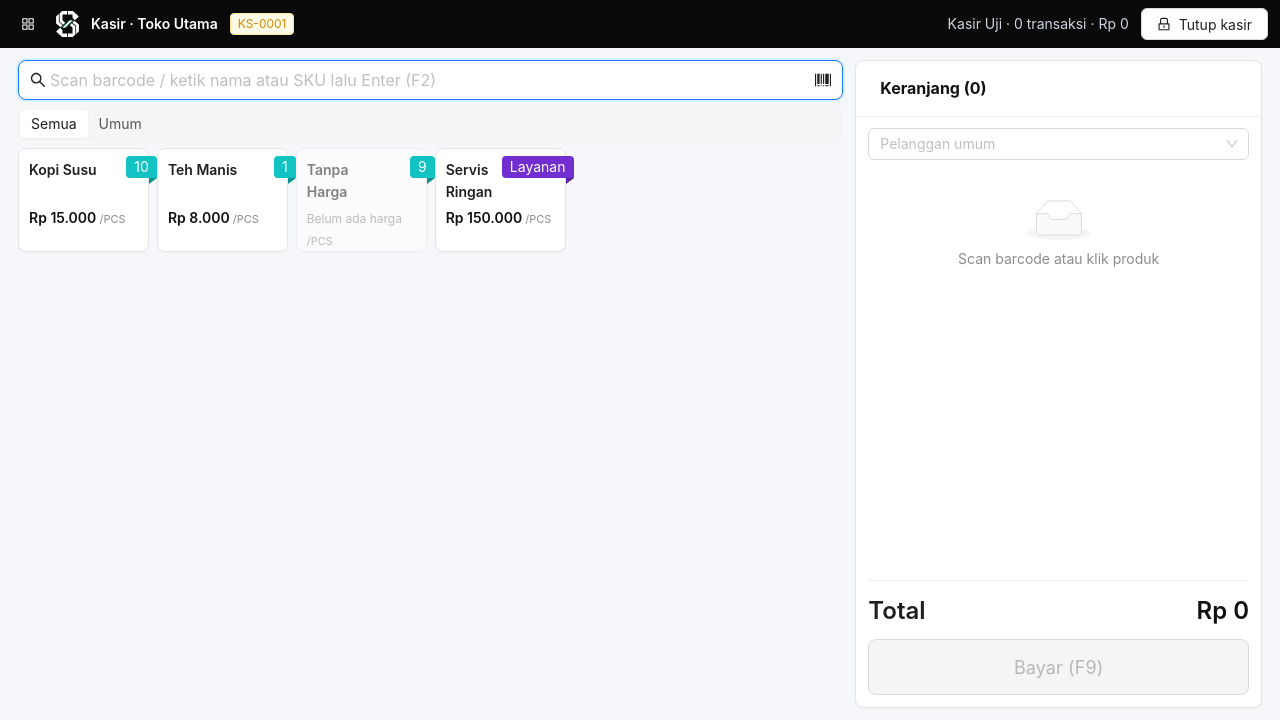
Test case: Kasir (Register) › barang tanpa harga jual tidak masuk keranjang
Click the text "Tanpa Harga".
click(328, 170)  # box [307,161,348,200]
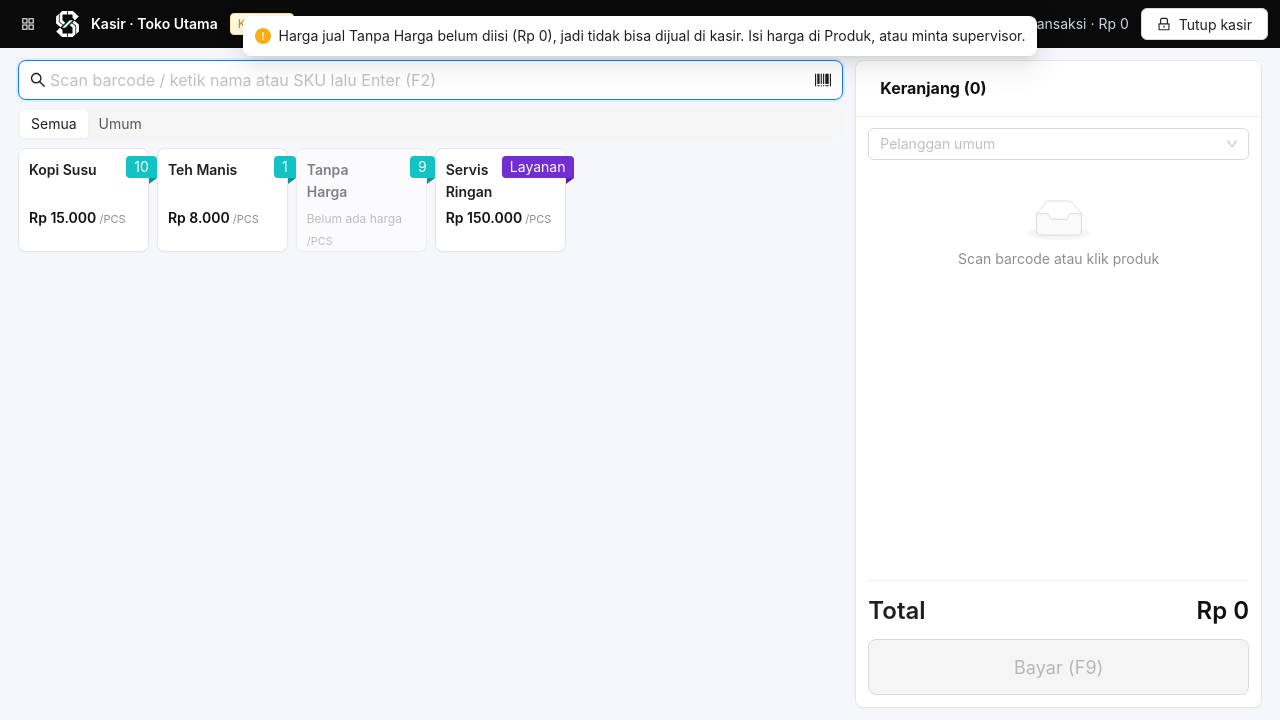
Expected: the text "Keranjang (0)" is shown, [880,78,987,98]
Expected: the text "Harga jual Tanpa Harga belum diisi" is shown, [278,27,1026,44]
